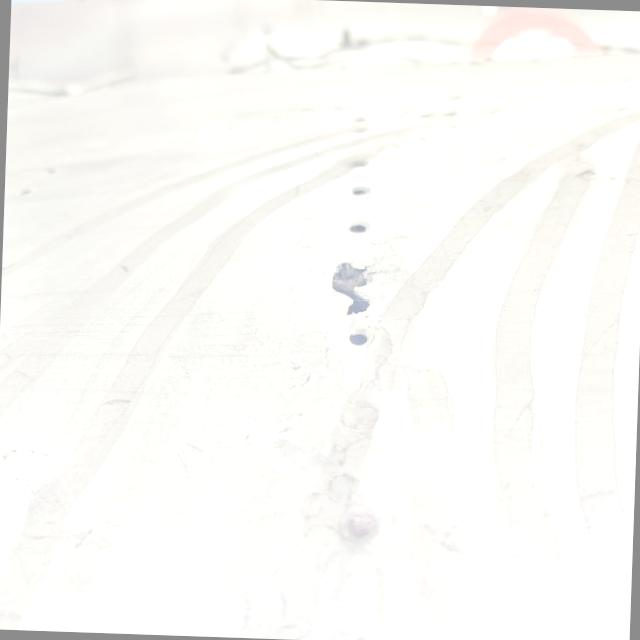crack: (309, 244, 397, 330)
